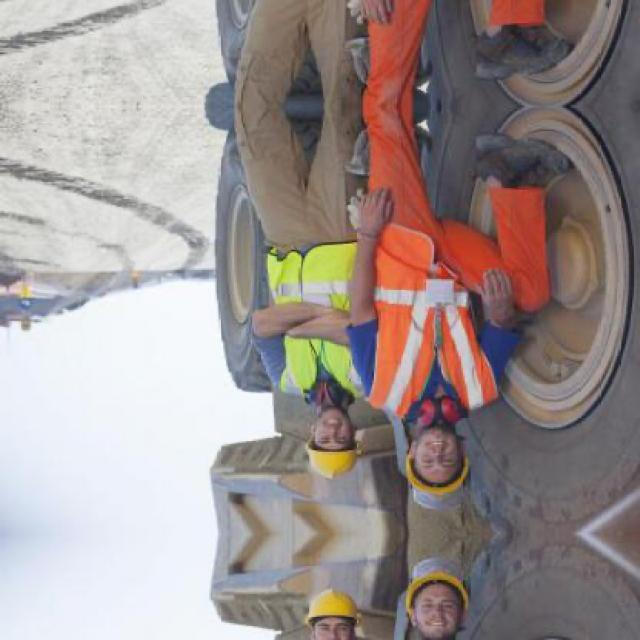safetyhelmet: (304, 411, 368, 487), (403, 428, 471, 498)
